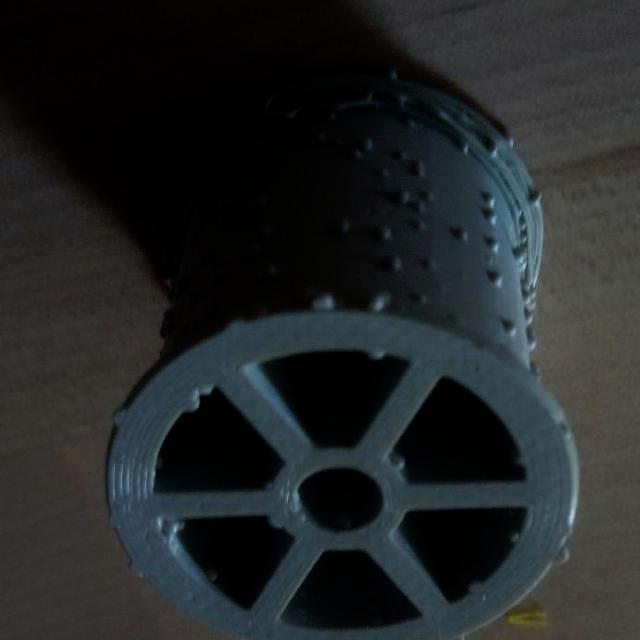zits: (304, 292, 340, 320), (258, 260, 284, 286), (104, 404, 132, 428), (327, 219, 353, 244), (382, 255, 406, 280), (358, 132, 383, 156), (362, 292, 389, 314), (552, 546, 576, 570), (371, 221, 397, 243), (177, 396, 204, 416), (389, 450, 411, 474), (378, 64, 404, 84), (483, 138, 505, 160), (453, 228, 473, 250), (506, 526, 528, 546), (312, 127, 333, 147), (397, 185, 416, 207), (523, 333, 545, 352), (367, 344, 385, 366), (480, 212, 502, 230), (511, 241, 529, 263), (503, 320, 521, 342), (257, 218, 275, 239), (418, 258, 442, 273), (456, 140, 476, 158), (506, 134, 522, 156), (468, 579, 490, 595), (487, 273, 506, 291), (414, 159, 432, 178), (530, 192, 548, 210), (520, 312, 538, 330), (482, 238, 502, 254), (478, 192, 498, 208), (206, 566, 226, 582), (412, 219, 430, 236), (376, 164, 395, 180), (348, 146, 364, 162)
